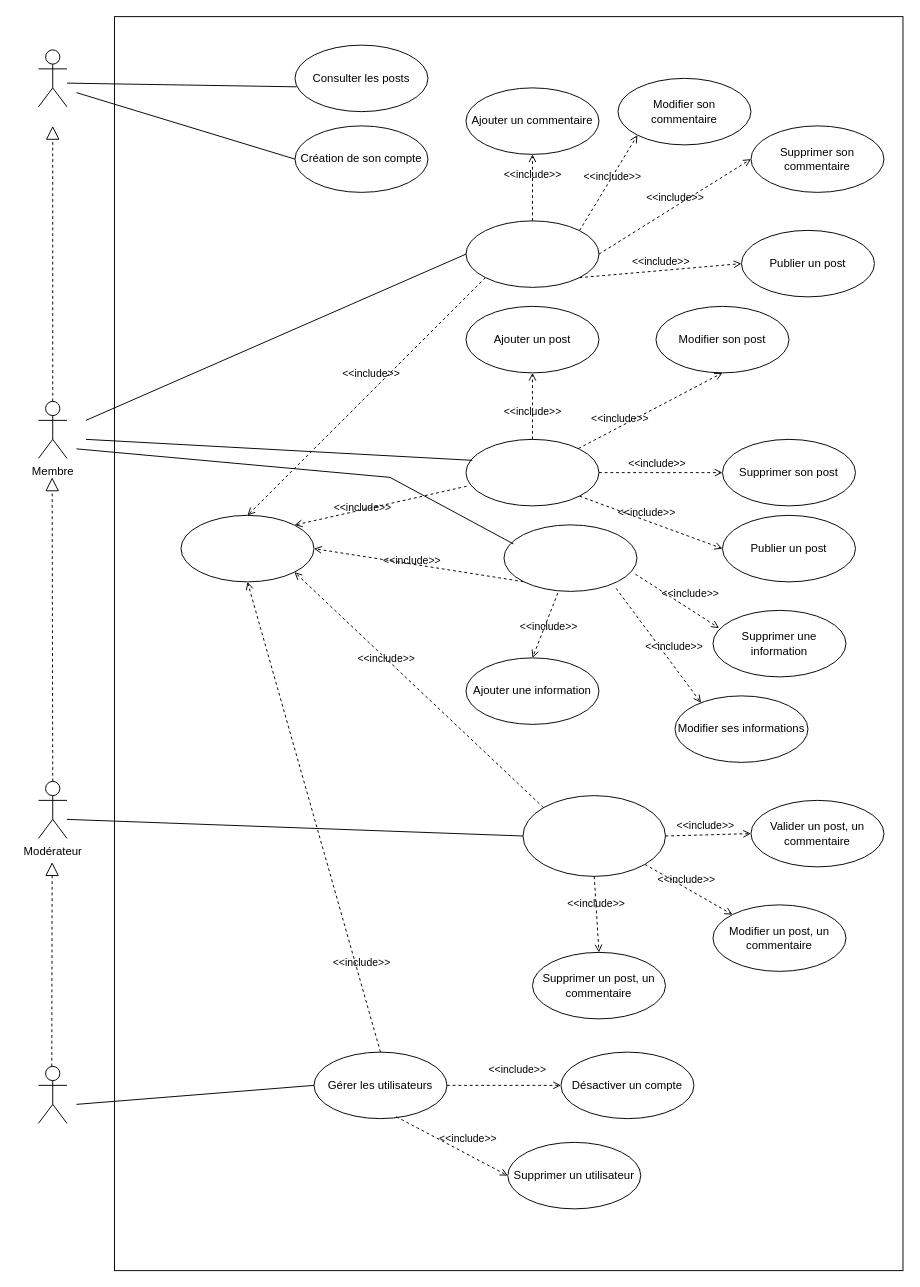
This 920x1287 diagram has some shape labels left out. The shapes that lost their labels are listed below. From the top down, each one's centre as x and y in pixels, then its label:
At [52,78]: "Visiteur".
At [532,253]: "Gérer ses commentaires".
At [532,472]: "Gérer ses posts".
At [247,548]: "Se connecter".
At [570,557]: "Gérer de son compte utilisateur".
At [593,835]: "Gérer les posts et les commentaires autres que les siens".
At [52,1094]: "Administrateur".
